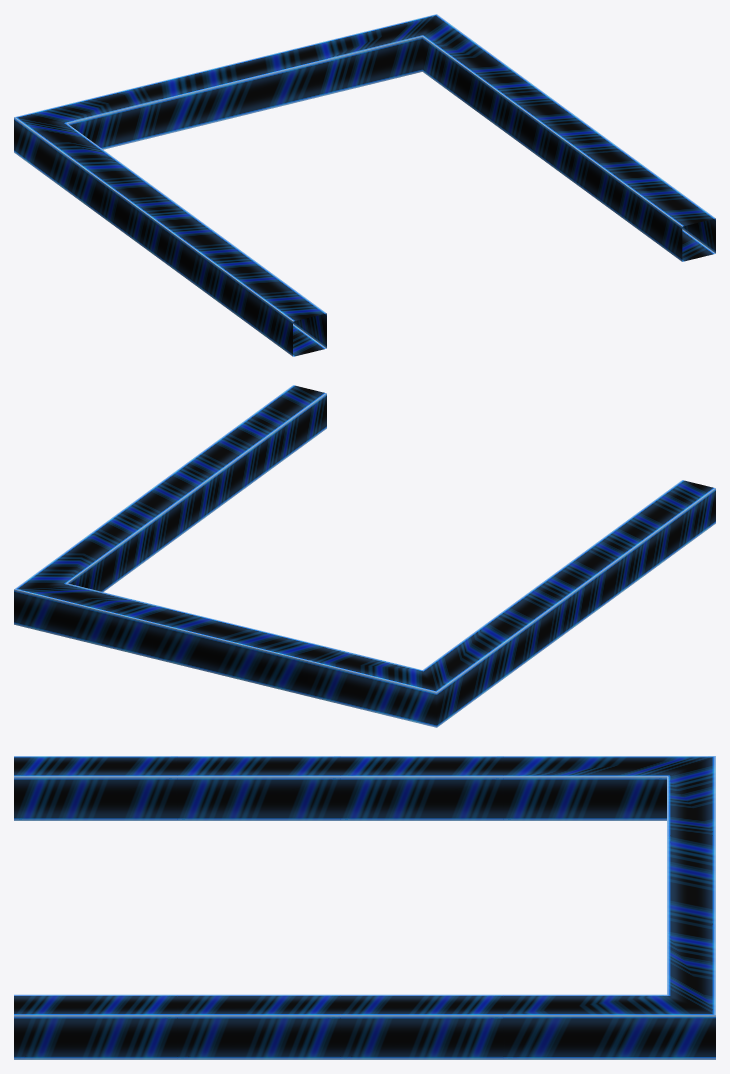
Rendered from Fence.FBX.
The picture shows the model from 3 angles, top to bottom: view 1: azimuth 30°, elevation 25°; view 2: azimuth 150°, elevation 25°; view 3: azimuth 270°, elevation 25°; orthographic projection. The views are drawn at different scales.
Parts seen in each view (by area): view 1: Fence; view 2: Fence; view 3: Fence.
Boxes of the visible parts, bbox=[...] form: Fence: bbox=[14, 14, 715, 356]; Fence: bbox=[14, 385, 715, 727]; Fence: bbox=[14, 756, 715, 1059].
Size of the model in its own units: 752 by 60 by 860.
1 material, 1 textured.
